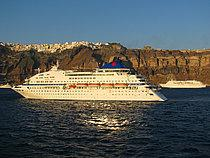Ship: (8, 58, 171, 108)
